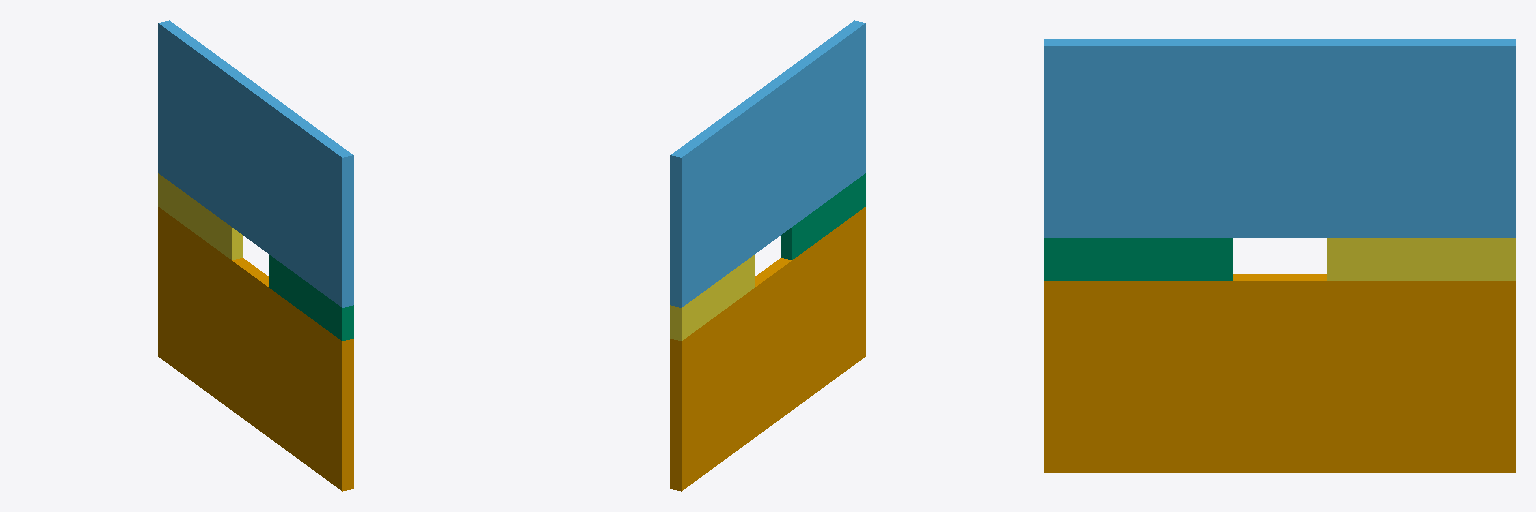
URDF robot description (decor):
<?xml version="1.0"?>
<robot name="decor"> <!-- puzzle environment -->
  <link name="decor_base">
    <visual>
      <origin xyz="0.27 0 -0.075"/><!-- -0.05 0 -0.55 -->
      <geometry>
        <box size="0.07 2 0.9" />
      </geometry>
    </visual>
    <collision>
      <origin xyz="0.27 0 -0.075"/>
      <geometry>
        <box size="0.07 2 0.9" />
      </geometry>
    </collision>
  </link>

  <joint name="j_decor_one" type="fixed">
    <parent link="decor_base"/>
    <child link="l_decor_one"/>
    <origin rpy="0 0 0" xyz="0 0 0"/>
  </joint>

  <link name="l_decor_one">
    <visual>
      <origin xyz="0.27 0 1.025"/>
      <geometry>
        <box size="0.07 2 0.9" />
      </geometry>
    </visual>
    <collision>
      <origin xyz="0.27 0 1.025"/>
      <geometry>
        <box size="0.07 2 0.9" />
      </geometry>
    </collision>
  </link>


  <joint name="j_decor_two" type="fixed">
    <parent link="l_decor_one"/>
    <child link="l_decor_two"/>
    <origin rpy="0 0 0" xyz="0 0 0"/>
  </joint>

  <link name="l_decor_two">
    <visual>
      <origin xyz="0.27 -0.6 0.475"/>
      <geometry>
        <box size="0.07 0.8 0.2" />
      </geometry>
    </visual>
    <collision>
      <origin xyz="0.27 -0.6 0.475"/>
      <geometry>
        <box size="0.07 0.8 0.2" />
      </geometry>
    </collision>
  </link>


  <joint name="j_decor_three" type="fixed">
    <parent link="l_decor_two"/>
    <child link="l_decor_three"/>
    <origin rpy="0 0 0" xyz="0 0 0"/>
  </joint>

  <link name="l_decor_three">
    <visual>
      <origin xyz="0.27 0.6 0.475"/>
      <geometry>
        <box size="0.07 0.8 0.2" />
      </geometry>
    </visual>
    <collision>
      <origin xyz="0.27 0.6 0.475"/>
      <geometry>
        <box size="0.07 0.8 0.2" />
      </geometry>
    </collision>
  </link>
</robot>

--- Render facts (derived) ---
The picture shows the robot from 3 angles, left to right: view 1: azimuth 30°, elevation 25°; view 2: azimuth 150°, elevation 25°; view 3: azimuth 270°, elevation 25°; orthographic projection.
Robot: decor — 4 links, 3 joints (3 fixed); root link decor_base; default pose: all joints at 0.
Visible links, largest first — view 1: l_decor_one, decor_base, l_decor_two, l_decor_three; view 2: l_decor_one, decor_base, l_decor_three, l_decor_two; view 3: l_decor_one, decor_base, l_decor_two, l_decor_three.
Link boxes in pixels (left/top/right/bottom): l_decor_one: left=158, top=20, right=353, bottom=307; decor_base: left=158, top=207, right=353, bottom=491; l_decor_two: left=269, top=255, right=353, bottom=340; l_decor_three: left=158, top=173, right=242, bottom=259; l_decor_one: left=670, top=20, right=865, bottom=307; decor_base: left=670, top=207, right=865, bottom=491; l_decor_three: left=670, top=255, right=754, bottom=340; l_decor_two: left=781, top=173, right=865, bottom=259; l_decor_one: left=1044, top=39, right=1515, bottom=237; decor_base: left=1044, top=274, right=1515, bottom=472; l_decor_two: left=1044, top=238, right=1232, bottom=280; l_decor_three: left=1327, top=238, right=1515, bottom=280.
Bounding box of the posed robot: 0.07 × 2 × 2 m (x, y, z).
Geometry: primitives only (box / cylinder / sphere), no mesh files.
